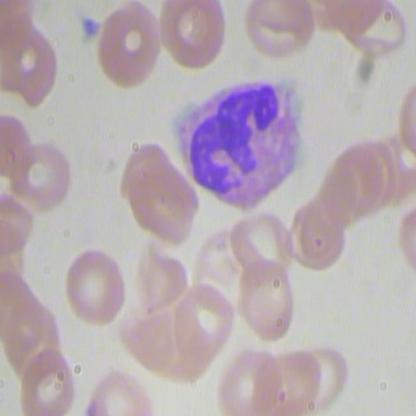Platelets: (79, 11, 102, 45)
RBC: (115, 139, 200, 248), (93, 1, 165, 94), (62, 242, 129, 327), (235, 258, 300, 345), (173, 277, 237, 364), (320, 1, 408, 61), (157, 1, 229, 73), (242, 1, 316, 67), (283, 195, 347, 269), (216, 342, 280, 415), (261, 342, 324, 415), (10, 141, 72, 215), (18, 341, 75, 415)
WBC: (159, 68, 309, 214)
